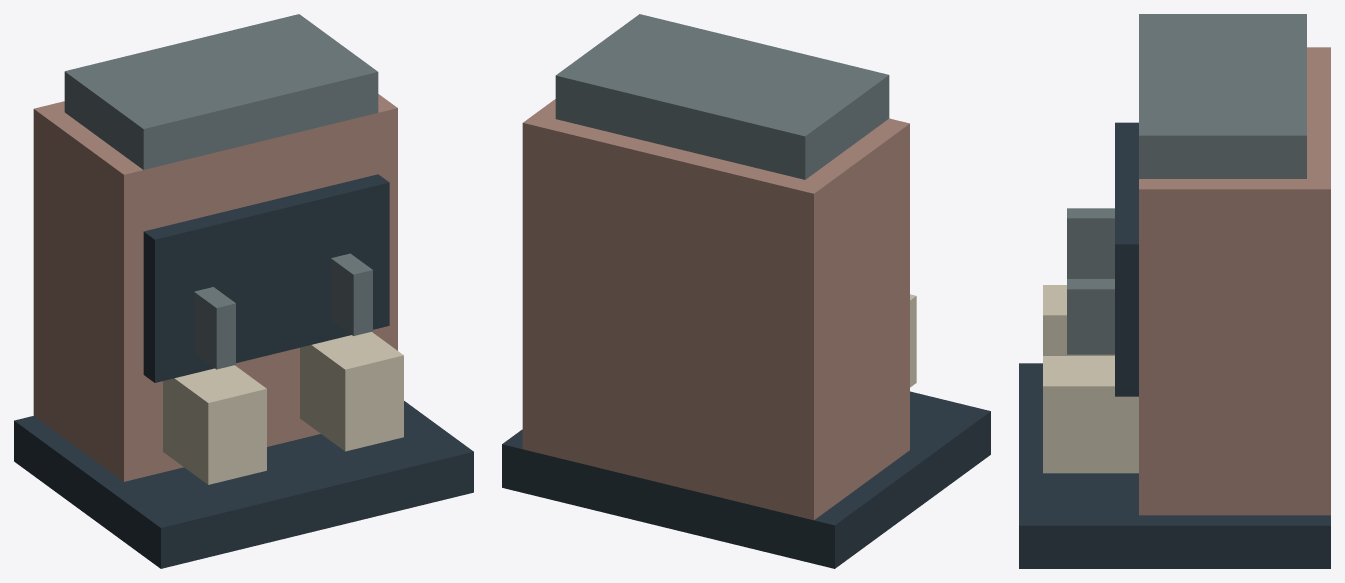
Rendered from hospitality-14.glb.
The picture shows the model from 3 angles, left to right: view 1: azimuth 30°, elevation 25°; view 2: azimuth 150°, elevation 25°; view 3: azimuth 270°, elevation 25°; orthographic projection. The views are drawn at different scales.
Visible parts, largest first — view 1: Coffee maker; view 2: Coffee maker; view 3: Coffee maker.
Part boxes in pixels (bbox=[...]): Coffee maker: bbox=[14, 14, 473, 568]; Coffee maker: bbox=[502, 14, 990, 568]; Coffee maker: bbox=[1019, 14, 1330, 568].
Bounding box in the file's own units: 1.28 × 1.52 × 1.04.
